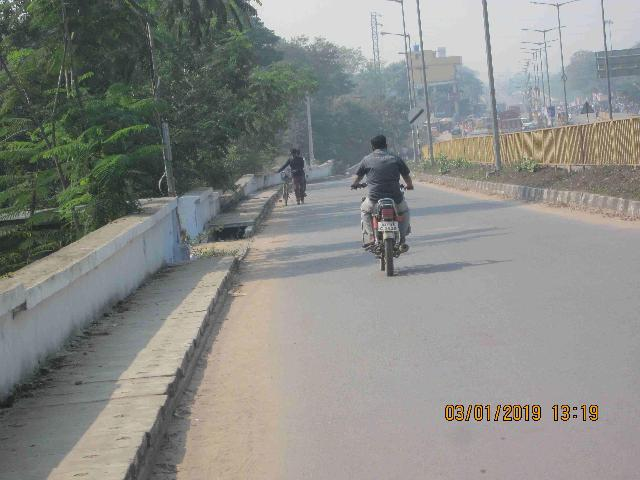motor: (352, 180, 416, 279)
non-helm: (372, 135, 391, 154)
